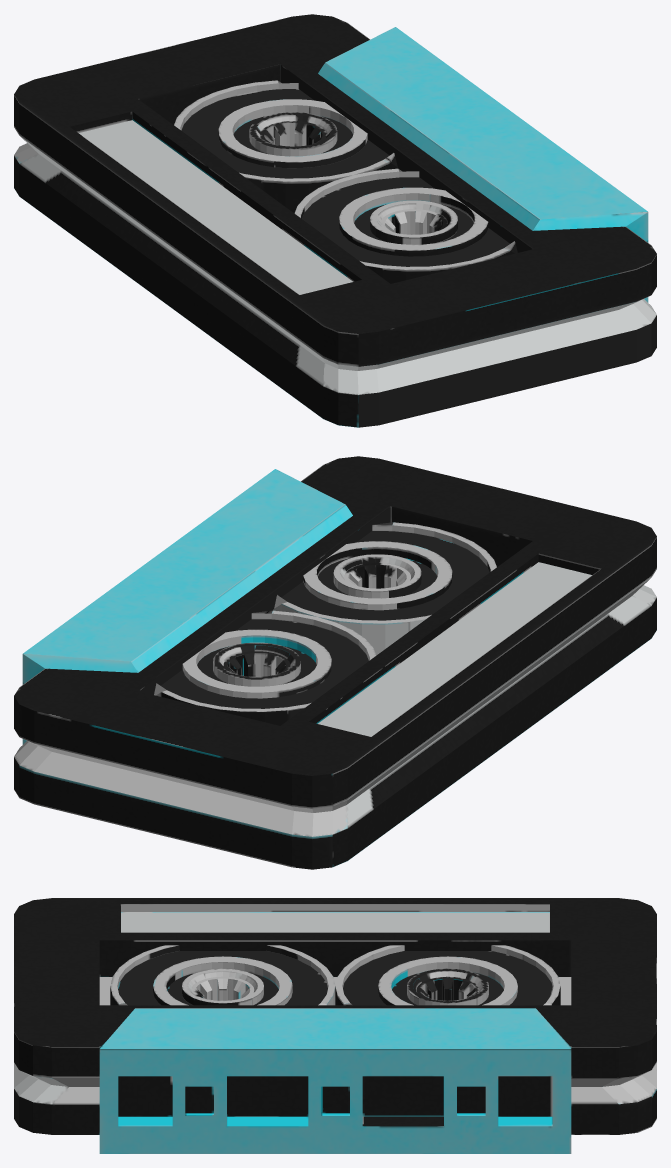
File: cassete3.fbx
3 views of the same model, one above another, from view 1: azimuth 30°, elevation 25°; view 2: azimuth 150°, elevation 25°; view 3: azimuth 270°, elevation 25° (orthographic). The views are drawn at different scales.
Parts seen in each view (by area): view 1: Cube; view 2: Cube; view 3: Cube.
Part boxes in pixels (x1,y1,x2,y2): Cube: [14, 14, 656, 427]; Cube: [14, 456, 656, 869]; Cube: [14, 898, 656, 1153].
Size of the model in its own units: 235 by 72 by 400.
Materials: 1 (1 with a texture image).
